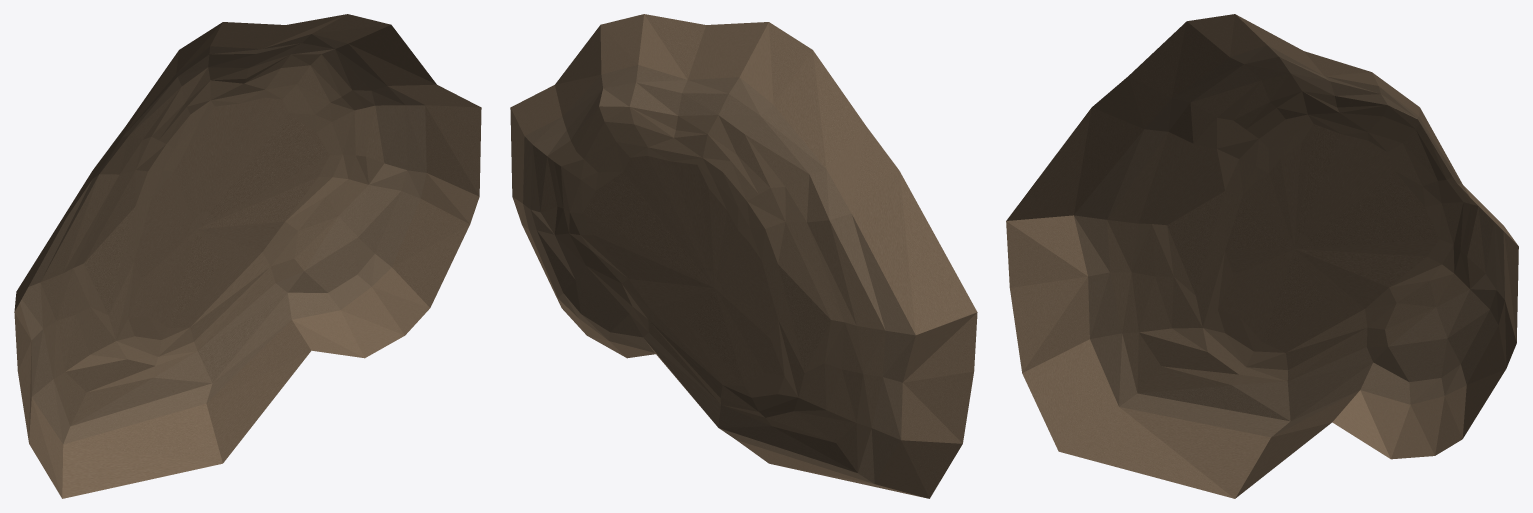
File: desert_land_5.FBX
3 views of the same model, side by side, from view 1: azimuth 30°, elevation 25°; view 2: azimuth 150°, elevation 25°; view 3: azimuth 330°, elevation 25° (orthographic). The views are drawn at different scales.
Parts seen in each view (by area): view 1: Icosphere.007; view 2: Icosphere.007; view 3: Icosphere.007.
Boxes of the visible parts, box(x1,y1,x2,y2) form: Icosphere.007: box(14, 14, 481, 498); Icosphere.007: box(510, 14, 977, 498); Icosphere.007: box(1006, 14, 1518, 498).
Bounding box in the file's own units: 2747 × 2482 × 410.
